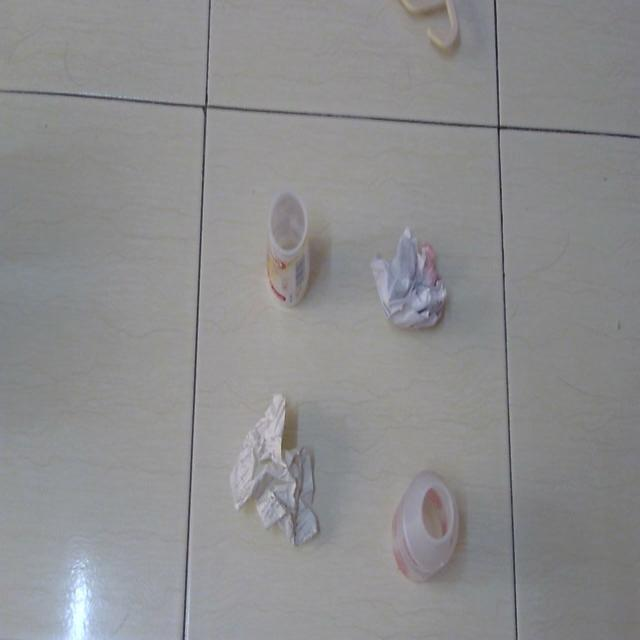paperrotation: (230, 389, 322, 550), (367, 222, 452, 341)
plastic_standrotation: (390, 466, 462, 585), (262, 182, 314, 313)
